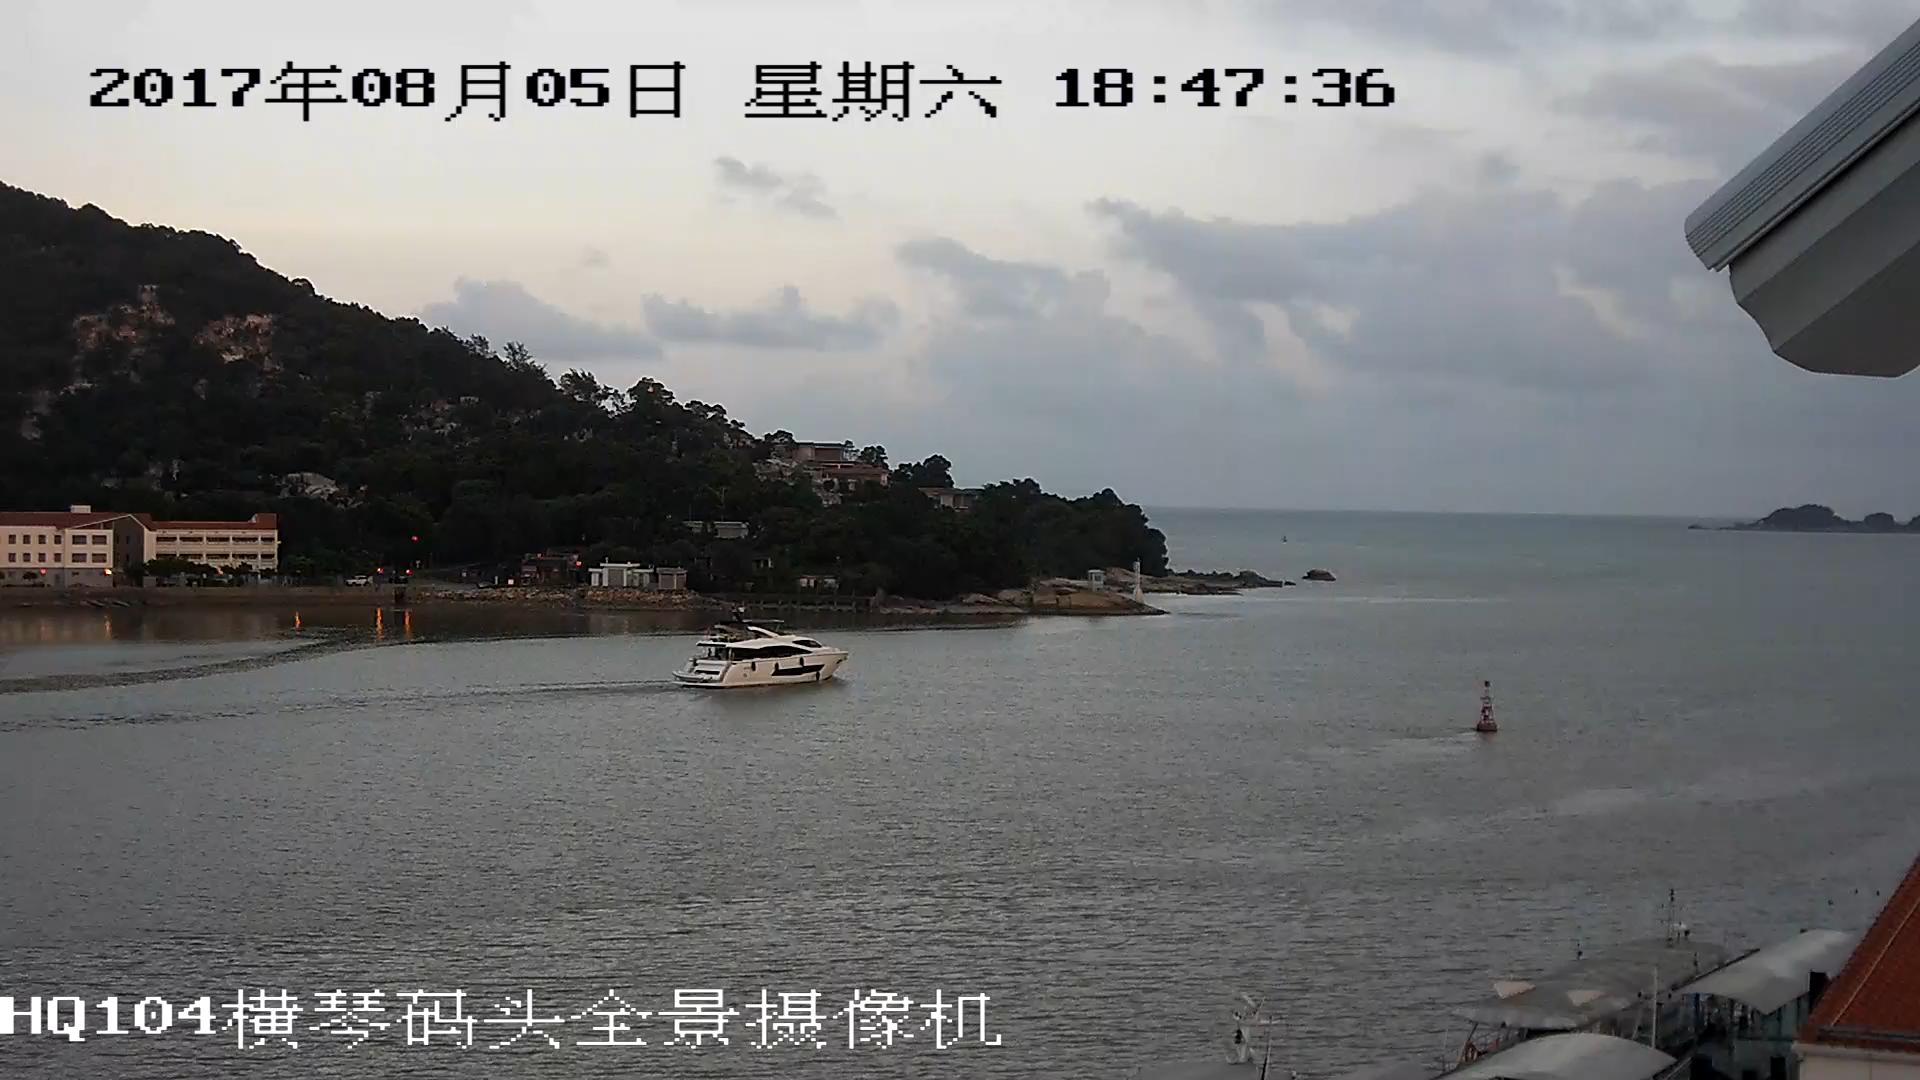passenger ship: (673, 622, 847, 688)
